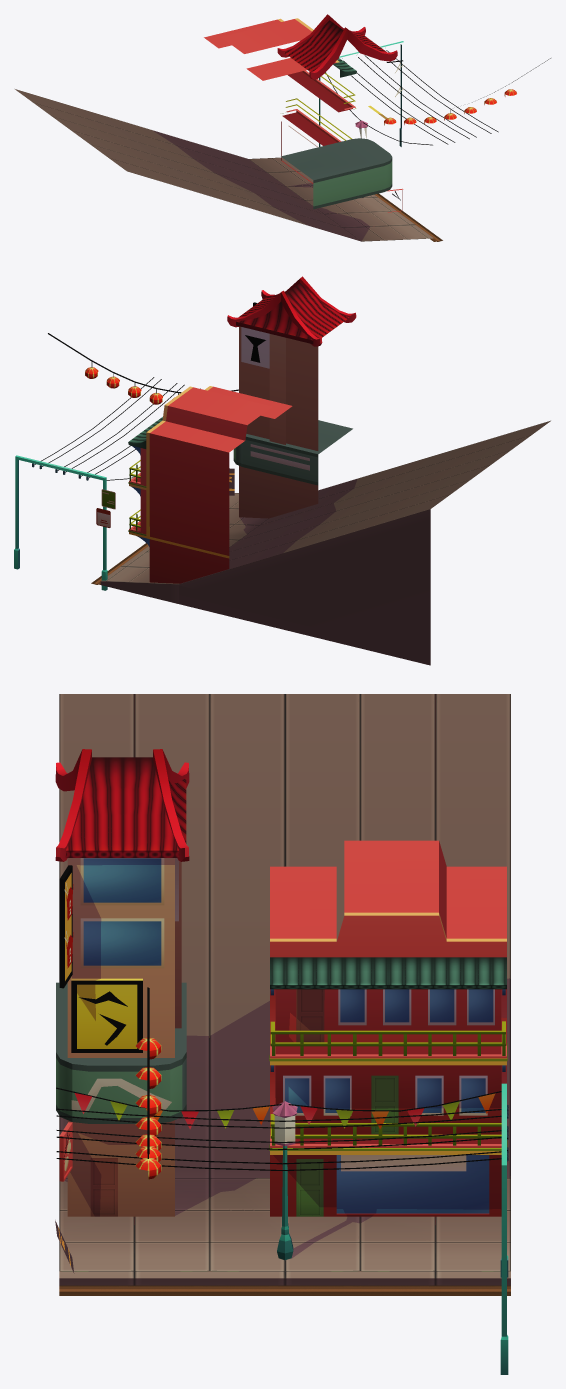
Rendered from 1.100_SanFrancisco_med_03_right.glb.
3 views of the same model, one above another, from view 1: azimuth 30°, elevation 25°; view 2: azimuth 150°, elevation 25°; view 3: azimuth 270°, elevation 25° (orthographic). The views are drawn at different scales.
Parts seen in each view (by area): view 1: 1.100_SanFrancisco_med_03_right; view 2: 1.100_SanFrancisco_med_03_right; view 3: 1.100_SanFrancisco_med_03_right.
Boxes of the visible parts, x1,y1,x2,y2 form: 1.100_SanFrancisco_med_03_right: [15, 14, 550, 241]; 1.100_SanFrancisco_med_03_right: [14, 276, 550, 665]; 1.100_SanFrancisco_med_03_right: [55, 694, 510, 1374].
Size of the model in its own units: 412 by 206 by 182.
Materials: 3 (3 with a texture image).
